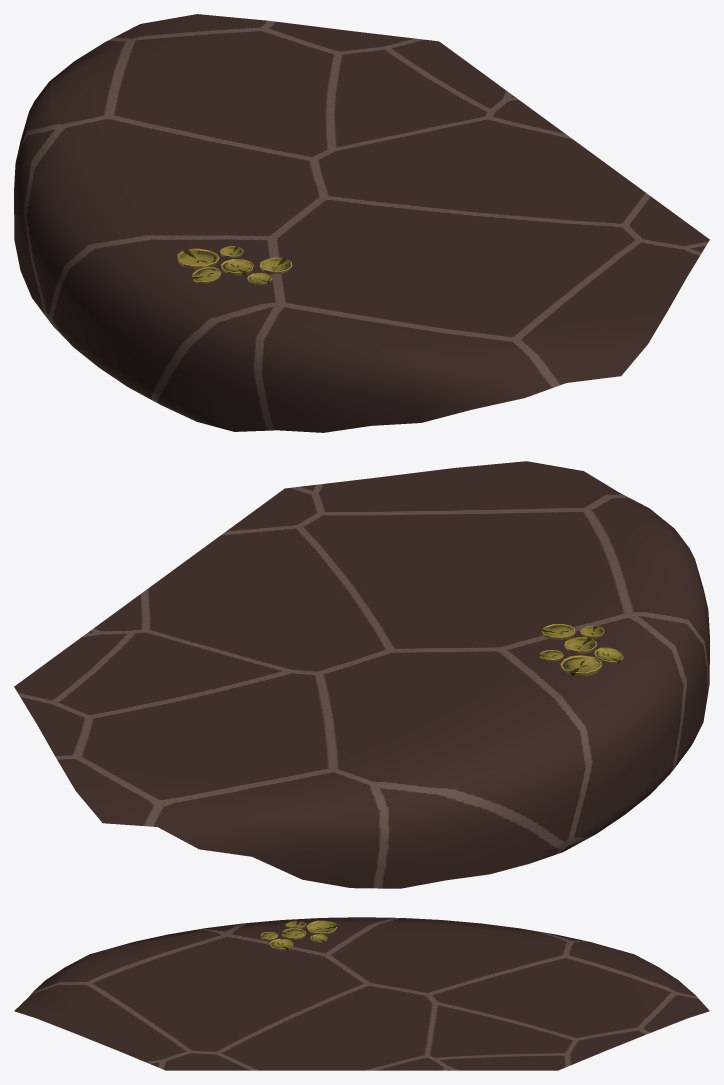
Rendered from water.glb.
3 renders of one model, top to bottom at view 1: azimuth 30°, elevation 25°; view 2: azimuth 150°, elevation 25°; view 3: azimuth 270°, elevation 25°, orthographic. The views are drawn at different scales.
Visible parts, largest first — view 1: Ocean.002, lilyPad_geo; view 2: Ocean.002, lilyPad_geo; view 3: Ocean.002, lilyPad_geo.
Boxes of the visible parts, x1=… form: Ocean.002: x1=14, y1=14, x2=709, y2=432; lilyPad_geo: x1=177, y1=248, x2=219, y2=269; Ocean.002: x1=14, y1=461, x2=709, y2=888; lilyPad_geo: x1=560, y1=655, x2=601, y2=675; Ocean.002: x1=14, y1=917, x2=709, y2=1070; lilyPad_geo: x1=306, y1=920, x2=337, y2=934.
Bounding box in the file's own units: 0.8722 × 0.199 × 1.51.
Materials: 2 (2 with a texture image).
